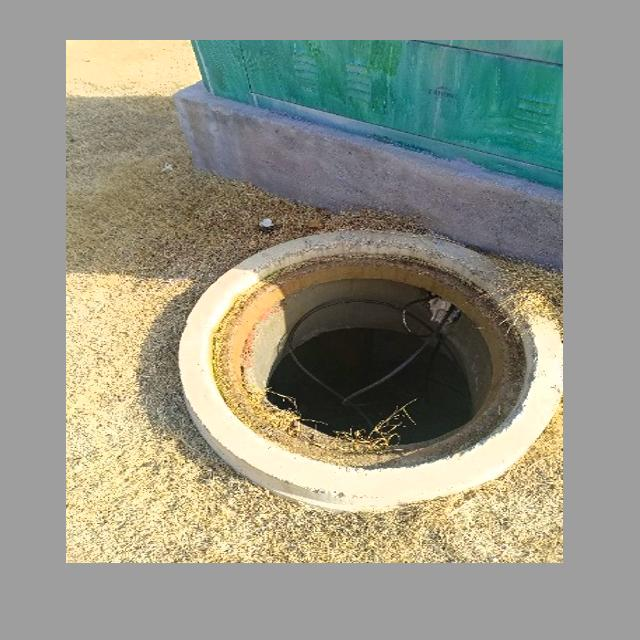lose: (176, 229, 563, 507)
